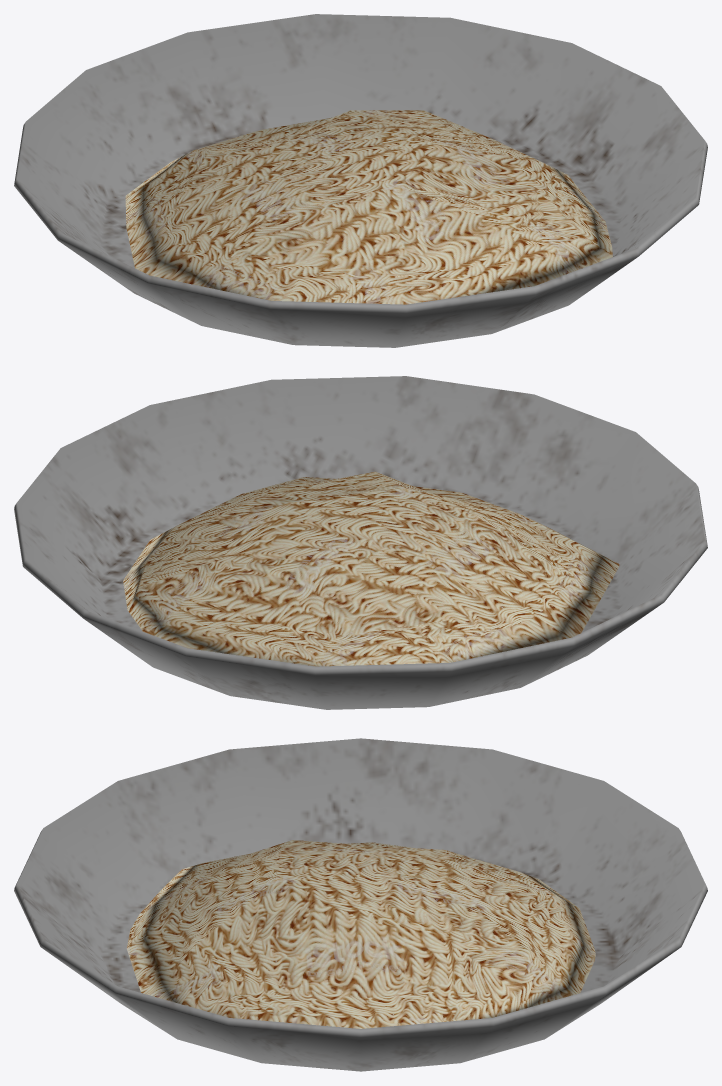
File: PlateNoodles.glb
The picture shows the model from 3 angles, top to bottom: view 1: azimuth 30°, elevation 25°; view 2: azimuth 150°, elevation 25°; view 3: azimuth 270°, elevation 25°; orthographic projection.
Parts seen in each view (by area): view 1: PlateNoodles; view 2: PlateNoodles; view 3: PlateNoodles.
Part boxes in pixels (<box>): PlateNoodles: <box>14,14,707,347</box>; PlateNoodles: <box>14,376,707,709</box>; PlateNoodles: <box>14,738,707,1071</box>.
Bounding box in the file's own units: 0.6 × 0.0772 × 0.6.
2 materials, 2 textured.
